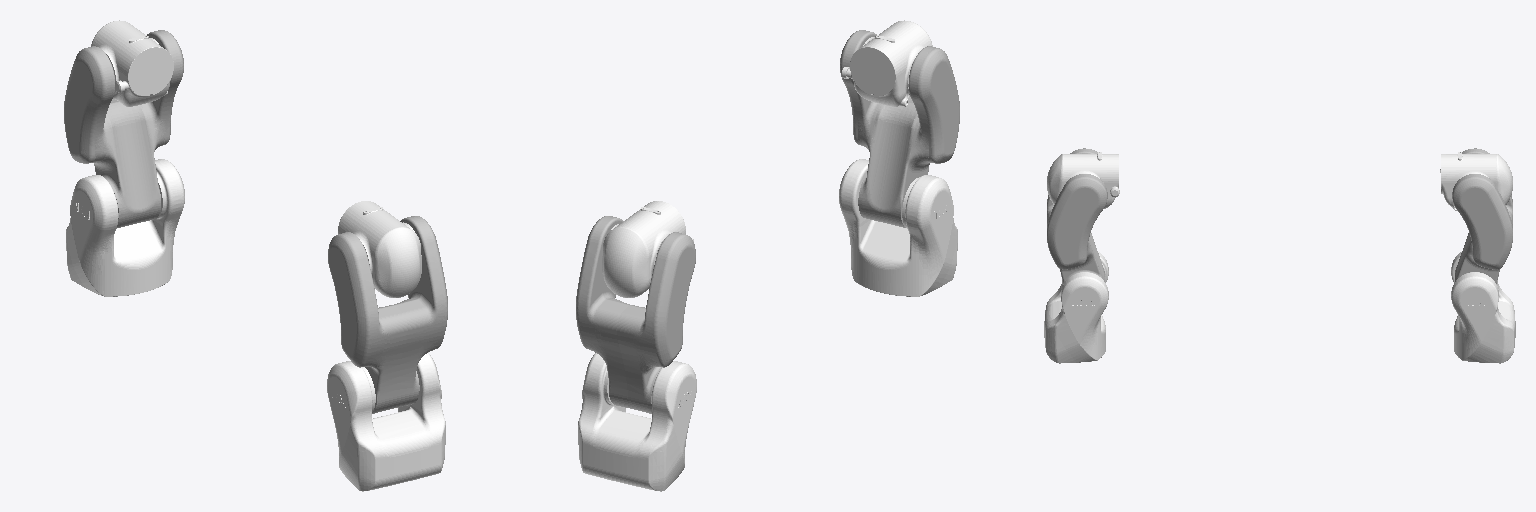
URDF robot description (dual_mz04):
<?xml version="1.0" encoding="utf-8"?>
<!-- =================================================================================== -->
<!-- |    This document was autogenerated by xacro from dual_mz04_arm.urdf.xacro       | -->
<!-- |    EDITING THIS FILE BY HAND IS NOT RECOMMENDED                                 | -->
<!-- =================================================================================== -->
<robot name="dual_mz04">
  <link name="base"/>
  <joint name="arm_L_joint_base" type="fixed">
    <parent link="base"/>
    <child link="arm_L_link0"/>
    <origin rpy="0 0 1.57079632679" xyz="0 -0.4595 0"/>
  </joint>
  <!-- for simulation -->
  <!--    <link name="world" />-->
  <!--    <joint name="robot_to_world" type="fixed">-->
  <!--      <parent link="world" />-->
  <!--      <child link="${arm_id}_link0" />-->
  <!--      <origin xyz="0.0 0.0 0.0" rpy="0.0 0.0 0.0" />-->
  <!--    </joint>-->
  <!-- end for simulation -->
  <link name="arm_L_link0">
    <visual>
      <geometry>
        <mesh filename="package://mz04_description/meshes/visual/link0.dae"/>
      </geometry>
    </visual>
    <collision>
      <geometry>
        <mesh filename="package://mz04_description/meshes/collision/link0.stl"/>
      </geometry>
    </collision>
  </link>
  <link name="arm_L_link1">
    <visual>
      <geometry>
        <mesh filename="package://mz04_description/meshes/visual/link1.dae"/>
      </geometry>
    </visual>
    <collision>
      <geometry>
        <mesh filename="package://mz04_description/meshes/collision/link1.stl"/>
      </geometry>
    </collision>
    <!-- for simulation -->
    <inertial>
      <origin rpy="0 0 0" xyz="-0.0197023514199581 0.000938298692799631 0.0855256712156905"/>
      <mass value="3.29244591173868"/>
      <inertia ixx="0.0222350895636315" ixy="-6.0973596097687E-05" ixz="-0.00175393698078112" iyy="0.0154200096606875" iyz="-0.000258002191557829" izz="0.0150764764826899"/>
    </inertial>
    <!-- end for simulation -->
  </link>
  <joint name="arm_L_joint1" type="revolute">
    <safety_controller k_position="100.0" k_velocity="40.0" soft_lower_limit="-2.97" soft_upper_limit="2.97"/>
    <origin rpy="0 0 0" xyz="0 0 0.171"/>
    <parent link="arm_L_link0"/>
    <child link="arm_L_link1"/>
    <axis xyz="0 0 1"/>
    <limit effort="100" lower="-2.97" upper="2.97" velocity="8.38"/>
    <!-- for simulation -->
    <dynamics damping="1.0"/>
    <!-- end for simulation -->
  </joint>
  <link name="arm_L_link2">
    <visual>
      <geometry>
        <mesh filename="package://mz04_description/meshes/visual/link2.dae"/>
      </geometry>
    </visual>
    <collision>
      <geometry>
        <mesh filename="package://mz04_description/meshes/collision/link2.stl"/>
      </geometry>
    </collision>
    <!-- for simulation -->
    <inertial>
      <origin rpy="0 0 0" xyz="-0.0229430342959031 -0.129313116426115 -0.000857512097067098"/>
      <mass value="3.43354405526974"/>
      <inertia ixx="0.0374859154128489" ixy="-0.000577795026903937" ixz="6.67389962661599E-05" iyy="0.0140465634657448" iyz="0.000377486259040234" izz="0.0301480758700004"/>
    </inertial>
    <!-- end for simulation -->
  </link>
  <joint name="arm_L_joint2" type="revolute">
    <safety_controller k_position="100.0" k_velocity="40.0" soft_lower_limit="-2.53" soft_upper_limit="1.57"/>
    <origin rpy="-1.57079632679 0 0" xyz="0 0 0.169"/>
    <parent link="arm_L_link1"/>
    <child link="arm_L_link2"/>
    <axis xyz="0 0 -1"/>
    <limit effort="100" lower="-2.53" upper="1.57" velocity="8.03"/>
    <!-- for simulation -->
    <dynamics damping="1.0"/>
    <!-- end for simulation -->
  </joint>
  <link name="arm_L_link3">
    <visual>
      <geometry>
        <mesh filename="package://mz04_description/meshes/visual/link3.dae"/>
      </geometry>
    </visual>
    <collision>
      <geometry>
        <mesh filename="package://mz04_description/meshes/collision/link3.stl"/>
      </geometry>
    </collision>
    <!-- for simulation -->
    <inertial>
      <origin rpy="0 0 0" xyz="0.00557516997606589 -0.000280097155568842 -0.000264708631542377"/>
      <mass value="1.75772574412506"/>
      <inertia ixx="0.0032167713214568" ixy="-0.000191167581086016" ixz="1.23933539489604E-06" iyy="0.00322653422939074" iyz="5.25316745371768E-06" izz="0.00390619750681237"/>
    </inertial>
    <!-- end for simulation -->
  </link>
  <joint name="arm_L_joint3" type="revolute">
    <safety_controller k_position="100.0" k_velocity="40.0" soft_lower_limit="-2.18" soft_upper_limit="4.89"/>
    <origin rpy="0 0 -1.57079632679" xyz="0 -0.26 0"/>
    <parent link="arm_L_link2"/>
    <child link="arm_L_link3"/>
    <axis xyz="0 0 -1"/>
    <limit effort="100" lower="-2.18" upper="4.89" velocity="9.08"/>
    <!-- for simulation -->
    <dynamics damping="1.0"/>
    <!-- end for simulation -->
  </joint>
  <link name="arm_L_link4">
    <visual>
      <geometry>
        <mesh filename="package://mz04_description/meshes/visual/link4.dae"/>
      </geometry>
    </visual>
    <collision>
      <geometry>
        <mesh filename="package://mz04_description/meshes/collision/link4.stl"/>
      </geometry>
    </collision>
    <!-- for simulation -->
    <inertial>
      <origin rpy="0 0 0" xyz="0.00309024473150554 -0.000145366515908234 -0.102946189818116"/>
      <mass value="1.70562401190118"/>
      <inertia ixx="0.00721639807702088" ixy="-3.42236031590701E-07" ixz="5.92374124737924E-05" iyy="0.00686286874449402" iyz="5.84968158425155E-06" izz="0.00220615434229459"/>
    </inertial>
    <!-- end for simulation -->
  </link>
  <joint name="arm_L_joint4" type="revolute">
    <safety_controller k_position="100.0" k_velocity="40.0" soft_lower_limit="-3.32" soft_upper_limit="3.32"/>
    <origin rpy="-1.57079632679 0 0" xyz="0.0249999999999999 0.28 0"/>
    <parent link="arm_L_link3"/>
    <child link="arm_L_link4"/>
    <axis xyz="0 0 1"/>
    <limit effort="100" lower="-3.32" upper="3.32" velocity="9.77"/>
    <!-- for simulation -->
    <dynamics damping="1.0"/>
    <!-- end for simulation -->
  </joint>
  <link name="arm_L_link5">
    <visual>
      <geometry>
        <mesh filename="package://mz04_description/meshes/visual/link5.dae"/>
      </geometry>
    </visual>
    <collision>
      <geometry>
        <mesh filename="package://mz04_description/meshes/collision/link5.stl"/>
      </geometry>
    </collision>
    <!-- for simulation -->
    <inertial>
      <origin rpy="0 0 0" xyz="-5.86547276966165E-05 0.0199090373472192 -0.00293631213635448"/>
      <mass value="0.336399836903676"/>
      <inertia ixx="0.000446624368283086" ixy="2.47061371480887E-07" ixz="6.15821325897774E-07" iyy="0.000330568174441235" iyz="-1.87705108529991E-05" izz="0.000351036334434016"/>
    </inertial>
    <!-- end for simulation -->
  </link>
  <joint name="arm_L_joint5" type="revolute">
    <safety_controller k_position="100.0" k_velocity="40.0" soft_lower_limit="-2.09" soft_upper_limit="2.09"/>
    <origin rpy="1.57079632679 0 0" xyz="0 0 0"/>
    <parent link="arm_L_link4"/>
    <child link="arm_L_link5"/>
    <axis xyz="0 0 -1"/>
    <limit effort="100" lower="-2.09" upper="2.09" velocity="9.77"/>
    <!-- for simulation -->
    <dynamics damping="1.0"/>
    <!-- end for simulation -->
  </joint>
  <link name="arm_L_link6">
    <visual>
      <geometry>
        <mesh filename="package://mz04_description/meshes/visual/link6.dae"/>
      </geometry>
    </visual>
    <collision>
      <geometry>
        <mesh filename="package://mz04_description/meshes/collision/link6.stl"/>
      </geometry>
    </collision>
    <!-- for simulation -->
    <inertial>
      <origin rpy="0 0 0" xyz="0.00020870301755449 5.54207254168023E-05 0.0685507759319275"/>
      <mass value="0.0340082287388899"/>
      <inertia ixx="8.72489057883343E-06" ixy="5.14603740499548E-08" ixz="-7.72265367887762E-09" iyy="8.58258061822553E-06" iyz="-2.01661845696461E-09" izz="1.61785714739617E-05"/>
    </inertial>
    <!-- end for simulation -->
  </link>
  <joint name="arm_L_joint6" type="revolute">
    <safety_controller k_position="100.0" k_velocity="40.0" soft_lower_limit="-6.28" soft_upper_limit="6.28"/>
    <origin rpy="-1.57079632679 0 0" xyz="0 0.072 0"/>
    <parent link="arm_L_link5"/>
    <child link="arm_L_link6"/>
    <axis xyz="0 0 1"/>
    <limit effort="10" lower="-6.28" upper="6.28" velocity="15.71"/>
    <!-- for simulation -->
    <dynamics damping="1.0"/>
    <!-- end for simulation -->
  </joint>
  <joint name="arm_R_joint_base" type="fixed">
    <parent link="base"/>
    <child link="arm_R_link0"/>
    <origin rpy="0 0 -1.57079632679" xyz="0 0.4595 0"/>
  </joint>
  <!-- for simulation -->
  <!--    <link name="world" />-->
  <!--    <joint name="robot_to_world" type="fixed">-->
  <!--      <parent link="world" />-->
  <!--      <child link="${arm_id}_link0" />-->
  <!--      <origin xyz="0.0 0.0 0.0" rpy="0.0 0.0 0.0" />-->
  <!--    </joint>-->
  <!-- end for simulation -->
  <link name="arm_R_link0">
    <visual>
      <geometry>
        <mesh filename="package://mz04_description/meshes/visual/link0.dae"/>
      </geometry>
    </visual>
    <collision>
      <geometry>
        <mesh filename="package://mz04_description/meshes/collision/link0.stl"/>
      </geometry>
    </collision>
  </link>
  <link name="arm_R_link1">
    <visual>
      <geometry>
        <mesh filename="package://mz04_description/meshes/visual/link1.dae"/>
      </geometry>
    </visual>
    <collision>
      <geometry>
        <mesh filename="package://mz04_description/meshes/collision/link1.stl"/>
      </geometry>
    </collision>
    <!-- for simulation -->
    <inertial>
      <origin rpy="0 0 0" xyz="-0.0197023514199581 0.000938298692799631 0.0855256712156905"/>
      <mass value="3.29244591173868"/>
      <inertia ixx="0.0222350895636315" ixy="-6.0973596097687E-05" ixz="-0.00175393698078112" iyy="0.0154200096606875" iyz="-0.000258002191557829" izz="0.0150764764826899"/>
    </inertial>
    <!-- end for simulation -->
  </link>
  <joint name="arm_R_joint1" type="revolute">
    <safety_controller k_position="100.0" k_velocity="40.0" soft_lower_limit="-2.97" soft_upper_limit="2.97"/>
    <origin rpy="0 0 0" xyz="0 0 0.171"/>
    <parent link="arm_R_link0"/>
    <child link="arm_R_link1"/>
    <axis xyz="0 0 1"/>
    <limit effort="100" lower="-2.97" upper="2.97" velocity="8.38"/>
    <!-- for simulation -->
    <dynamics damping="1.0"/>
    <!-- end for simulation -->
  </joint>
  <link name="arm_R_link2">
    <visual>
      <geometry>
        <mesh filename="package://mz04_description/meshes/visual/link2.dae"/>
      </geometry>
    </visual>
    <collision>
      <geometry>
        <mesh filename="package://mz04_description/meshes/collision/link2.stl"/>
      </geometry>
    </collision>
    <!-- for simulation -->
    <inertial>
      <origin rpy="0 0 0" xyz="-0.0229430342959031 -0.129313116426115 -0.000857512097067098"/>
      <mass value="3.43354405526974"/>
      <inertia ixx="0.0374859154128489" ixy="-0.000577795026903937" ixz="6.67389962661599E-05" iyy="0.0140465634657448" iyz="0.000377486259040234" izz="0.0301480758700004"/>
    </inertial>
    <!-- end for simulation -->
  </link>
  <joint name="arm_R_joint2" type="revolute">
    <safety_controller k_position="100.0" k_velocity="40.0" soft_lower_limit="-2.53" soft_upper_limit="1.57"/>
    <origin rpy="-1.57079632679 0 0" xyz="0 0 0.169"/>
    <parent link="arm_R_link1"/>
    <child link="arm_R_link2"/>
    <axis xyz="0 0 -1"/>
    <limit effort="100" lower="-2.53" upper="1.57" velocity="8.03"/>
    <!-- for simulation -->
    <dynamics damping="1.0"/>
    <!-- end for simulation -->
  </joint>
  <link name="arm_R_link3">
    <visual>
      <geometry>
        <mesh filename="package://mz04_description/meshes/visual/link3.dae"/>
      </geometry>
    </visual>
    <collision>
      <geometry>
        <mesh filename="package://mz04_description/meshes/collision/link3.stl"/>
      </geometry>
    </collision>
    <!-- for simulation -->
    <inertial>
      <origin rpy="0 0 0" xyz="0.00557516997606589 -0.000280097155568842 -0.000264708631542377"/>
      <mass value="1.75772574412506"/>
      <inertia ixx="0.0032167713214568" ixy="-0.000191167581086016" ixz="1.23933539489604E-06" iyy="0.00322653422939074" iyz="5.25316745371768E-06" izz="0.00390619750681237"/>
    </inertial>
    <!-- end for simulation -->
  </link>
  <joint name="arm_R_joint3" type="revolute">
    <safety_controller k_position="100.0" k_velocity="40.0" soft_lower_limit="-2.18" soft_upper_limit="4.89"/>
    <origin rpy="0 0 -1.57079632679" xyz="0 -0.26 0"/>
    <parent link="arm_R_link2"/>
    <child link="arm_R_link3"/>
    <axis xyz="0 0 -1"/>
    <limit effort="100" lower="-2.18" upper="4.89" velocity="9.08"/>
    <!-- for simulation -->
    <dynamics damping="1.0"/>
    <!-- end for simulation -->
  </joint>
  <link name="arm_R_link4">
    <visual>
      <geometry>
        <mesh filename="package://mz04_description/meshes/visual/link4.dae"/>
      </geometry>
    </visual>
    <collision>
      <geometry>
        <mesh filename="package://mz04_description/meshes/collision/link4.stl"/>
      </geometry>
    </collision>
    <!-- for simulation -->
    <inertial>
      <origin rpy="0 0 0" xyz="0.00309024473150554 -0.000145366515908234 -0.102946189818116"/>
      <mass value="1.70562401190118"/>
      <inertia ixx="0.00721639807702088" ixy="-3.42236031590701E-07" ixz="5.92374124737924E-05" iyy="0.00686286874449402" iyz="5.84968158425155E-06" izz="0.00220615434229459"/>
    </inertial>
    <!-- end for simulation -->
  </link>
  <joint name="arm_R_joint4" type="revolute">
    <safety_controller k_position="100.0" k_velocity="40.0" soft_lower_limit="-3.32" soft_upper_limit="3.32"/>
    <origin rpy="-1.57079632679 0 0" xyz="0.0249999999999999 0.28 0"/>
    <parent link="arm_R_link3"/>
    <child link="arm_R_link4"/>
    <axis xyz="0 0 1"/>
    <limit effort="100" lower="-3.32" upper="3.32" velocity="9.77"/>
    <!-- for simulation -->
    <dynamics damping="1.0"/>
    <!-- end for simulation -->
  </joint>
  <link name="arm_R_link5">
    <visual>
      <geometry>
        <mesh filename="package://mz04_description/meshes/visual/link5.dae"/>
      </geometry>
    </visual>
    <collision>
      <geometry>
        <mesh filename="package://mz04_description/meshes/collision/link5.stl"/>
      </geometry>
    </collision>
    <!-- for simulation -->
    <inertial>
      <origin rpy="0 0 0" xyz="-5.86547276966165E-05 0.0199090373472192 -0.00293631213635448"/>
      <mass value="0.336399836903676"/>
      <inertia ixx="0.000446624368283086" ixy="2.47061371480887E-07" ixz="6.15821325897774E-07" iyy="0.000330568174441235" iyz="-1.87705108529991E-05" izz="0.000351036334434016"/>
    </inertial>
    <!-- end for simulation -->
  </link>
  <joint name="arm_R_joint5" type="revolute">
    <safety_controller k_position="100.0" k_velocity="40.0" soft_lower_limit="-2.09" soft_upper_limit="2.09"/>
    <origin rpy="1.57079632679 0 0" xyz="0 0 0"/>
    <parent link="arm_R_link4"/>
    <child link="arm_R_link5"/>
    <axis xyz="0 0 -1"/>
    <limit effort="100" lower="-2.09" upper="2.09" velocity="9.77"/>
    <!-- for simulation -->
    <dynamics damping="1.0"/>
    <!-- end for simulation -->
  </joint>
  <link name="arm_R_link6">
    <visual>
      <geometry>
        <mesh filename="package://mz04_description/meshes/visual/link6.dae"/>
      </geometry>
    </visual>
    <collision>
      <geometry>
        <mesh filename="package://mz04_description/meshes/collision/link6.stl"/>
      </geometry>
    </collision>
    <!-- for simulation -->
    <inertial>
      <origin rpy="0 0 0" xyz="0.00020870301755449 5.54207254168023E-05 0.0685507759319275"/>
      <mass value="0.0340082287388899"/>
      <inertia ixx="8.72489057883343E-06" ixy="5.14603740499548E-08" ixz="-7.72265367887762E-09" iyy="8.58258061822553E-06" iyz="-2.01661845696461E-09" izz="1.61785714739617E-05"/>
    </inertial>
    <!-- end for simulation -->
  </link>
  <joint name="arm_R_joint6" type="revolute">
    <safety_controller k_position="100.0" k_velocity="40.0" soft_lower_limit="-6.28" soft_upper_limit="6.28"/>
    <origin rpy="-1.57079632679 0 0" xyz="0 0.072 0"/>
    <parent link="arm_R_link5"/>
    <child link="arm_R_link6"/>
    <axis xyz="0 0 1"/>
    <limit effort="10" lower="-6.28" upper="6.28" velocity="15.71"/>
    <!-- for simulation -->
    <dynamics damping="1.0"/>
    <!-- end for simulation -->
  </joint>
  <joint name="arm_L_link6_hand_L_ee_joint" type="fixed">
    <origin rpy="0 0 -3.14159265359" xyz="0 0 0"/>
    <parent link="arm_L_link6"/>
    <child link="hand_L_base"/>
  </joint>
  <link name="hand_L_base">
    <visual>
      <geometry>
        <!--          <mesh filename="package://mz04_description/meshes/visual/robotiq_epick.dae"/>-->
        <mesh filename="package://mz04_description/meshes/visual/white-robotiq_epick.dae"/>
      </geometry>
    </visual>
    <collision>
      <geometry>
        <mesh filename="package://mz04_description/meshes/collision/robotiq_epick.stl"/>
      </geometry>
    </collision>
    <!-- for simulation -->
    <inertial>
      <origin rpy="0 0 0" xyz="0 0 0"/>
      <mass value="2"/>
      <inertia ixx="0.1" ixy="0.0" ixz="0.0" iyy="0.1" iyz="0.0" izz="0.1"/>
    </inertial>
    <!-- end for simulation -->
  </link>
  <link name="hand_L_ee_link"/>
  <joint name="hand_L_ee_joint" type="fixed">
    <origin rpy="0 0 -0.785398163397" xyz="0 0 0.1895"/>
    <parent link="hand_L_base"/>
    <child link="hand_L_ee_link"/>
    <axis xyz="0 0 0"/>
  </joint>
  <joint name="arm_R_link6_hand_R_ee_joint" type="fixed">
    <origin rpy="0 0 -1.57079632679" xyz="0 0 0"/>
    <parent link="arm_R_link6"/>
    <child link="hand_R_base"/>
  </joint>
  <link name="hand_R_base">
    <visual>
      <geometry>
        <!--          <mesh filename="package://mz04_description/meshes/visual/robotiq_hande.dae"/>-->
        <mesh filename="package://mz04_description/meshes/visual/white-robotiq_hande.dae"/>
      </geometry>
    </visual>
    <collision>
      <geometry>
        <mesh filename="package://mz04_description/meshes/collision/robotiq_hande.stl"/>
      </geometry>
    </collision>
    <!-- for simulation -->
    <inertial>
      <origin rpy="0 0 0" xyz="0 0 0"/>
      <mass value="2"/>
      <inertia ixx="0.1" ixy="0.0" ixz="0.0" iyy="0.1" iyz="0.0" izz="0.1"/>
    </inertial>
    <!-- end for simulation -->
  </link>
  <link name="hand_R_ee_link"/>
  <joint name="hand_R_ee_joint" type="fixed">
    <origin rpy="0 0 -0.785398163397" xyz="0 0 0.1983"/>
    <parent link="hand_R_base"/>
    <child link="hand_R_ee_link"/>
    <axis xyz="0 0 0"/>
  </joint>
</robot>

--- Render facts (derived) ---
The picture shows the robot from 3 angles, left to right: view 1: azimuth 30°, elevation 25°; view 2: azimuth 150°, elevation 25°; view 3: azimuth 270°, elevation 25°; orthographic projection.
Robot: dual_mz04 — 19 links, 18 joints (12 revolute, 6 fixed); root link base; default pose: every joint at zero.
Visible links, largest first — view 1: arm_L_link2, arm_R_link2, arm_L_link1, arm_R_link1, arm_L_link3, arm_R_link3; view 2: arm_R_link2, arm_L_link2, arm_R_link1, arm_L_link1, arm_R_link3, arm_L_link3; view 3: arm_L_link1, arm_R_link1, arm_L_link2, arm_R_link2, arm_R_link3, arm_L_link3.
Boxes of the visible links, x1,y1,x2,y2 form: arm_L_link2: (328, 216, 447, 413); arm_R_link2: (64, 30, 183, 228); arm_L_link1: (327, 352, 445, 491); arm_R_link1: (66, 159, 184, 296); arm_L_link3: (338, 201, 421, 297); arm_R_link3: (91, 20, 173, 106); arm_R_link2: (576, 216, 695, 413); arm_L_link2: (840, 30, 959, 227); arm_R_link1: (578, 352, 696, 491); arm_L_link1: (839, 159, 957, 296); arm_R_link3: (602, 201, 693, 297); arm_L_link3: (842, 20, 932, 106); arm_L_link1: (1044, 252, 1108, 363); arm_R_link1: (1451, 252, 1515, 363); arm_L_link2: (1047, 148, 1107, 283); arm_R_link2: (1452, 148, 1512, 283); arm_R_link3: (1440, 152, 1512, 210); arm_L_link3: (1047, 152, 1119, 208).
Bounding box of the posed robot: 0.191 × 1.11 × 0.503 m (x, y, z).
Meshes: 9 distinct files referenced, 6 mesh visuals loaded (3 Collada DAE); not drawn: 10 (reference not matched to a file when rendering).